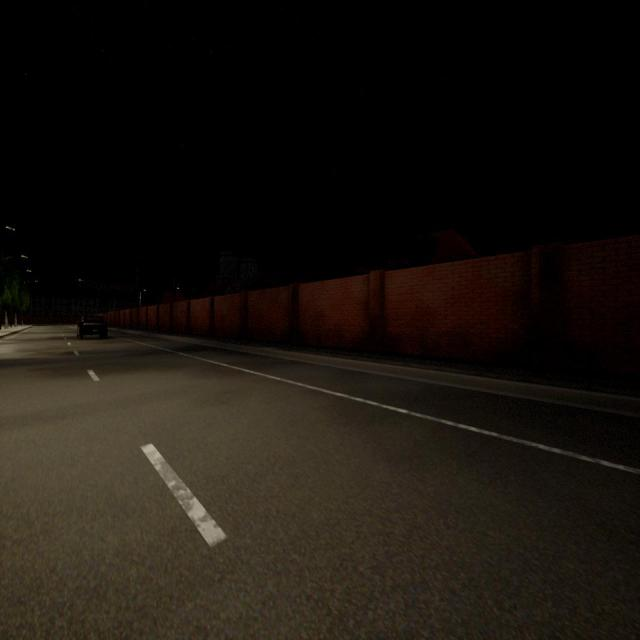Vehicle: (77, 315, 107, 338)
